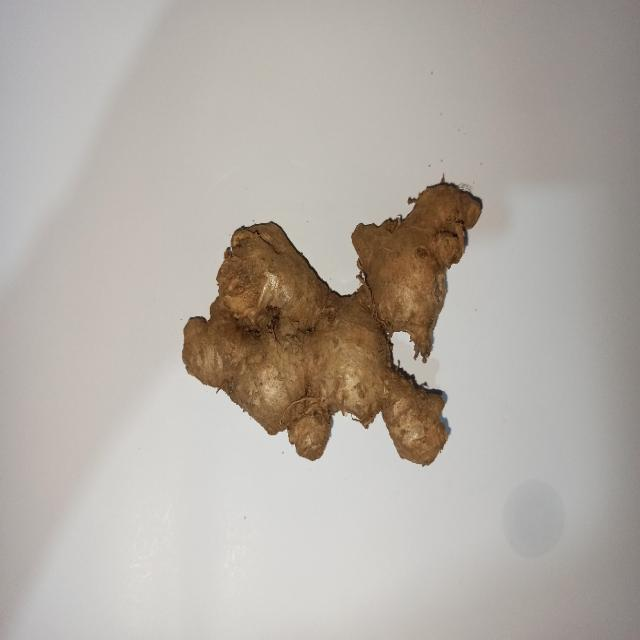ginger: (182, 179, 483, 467)
